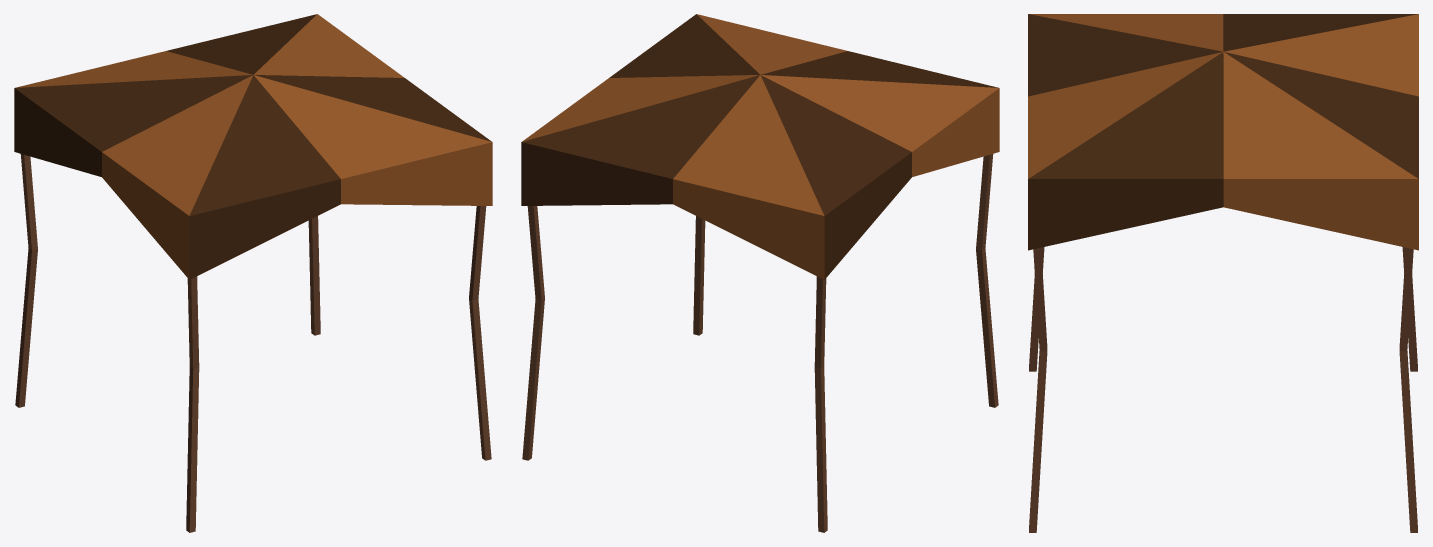
Rendered from Tent_7_Orange.fbx.
3 views of the same model, side by side, from view 1: azimuth 30°, elevation 25°; view 2: azimuth 150°, elevation 25°; view 3: azimuth 270°, elevation 25° (orthographic). The views are drawn at different scales.
Parts seen in each view (by area): view 1: Tent_7_Orange; view 2: Tent_7_Orange; view 3: Tent_7_Orange.
Boxes of the visible parts, box(x1,y1,x2,y2) form: Tent_7_Orange: box(14, 14, 492, 532); Tent_7_Orange: box(521, 14, 999, 532); Tent_7_Orange: box(1028, 14, 1418, 532).
Size of the model in its own units: 500 by 563 by 500.
